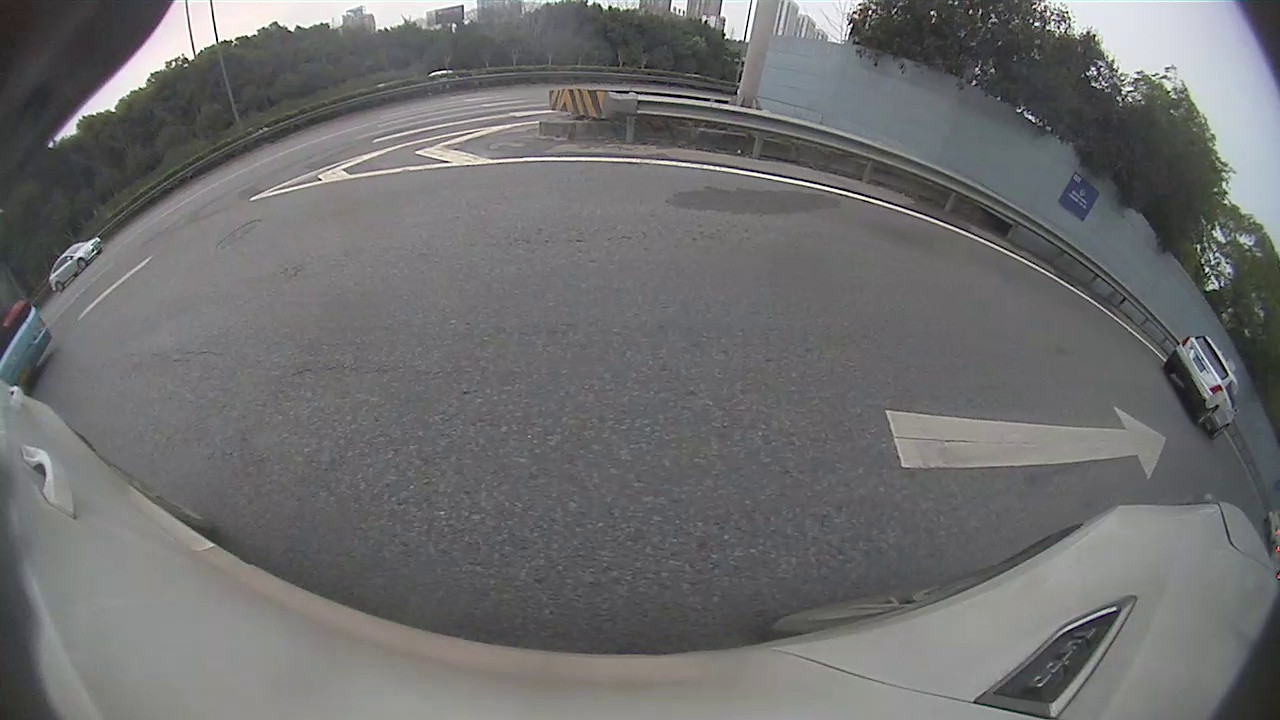bus: (0, 263, 58, 389)
car: (1166, 336, 1235, 435), (49, 237, 100, 294)
front: (1209, 424, 1230, 444), (75, 258, 87, 271)
rear: (1197, 403, 1217, 428), (54, 282, 63, 293)
